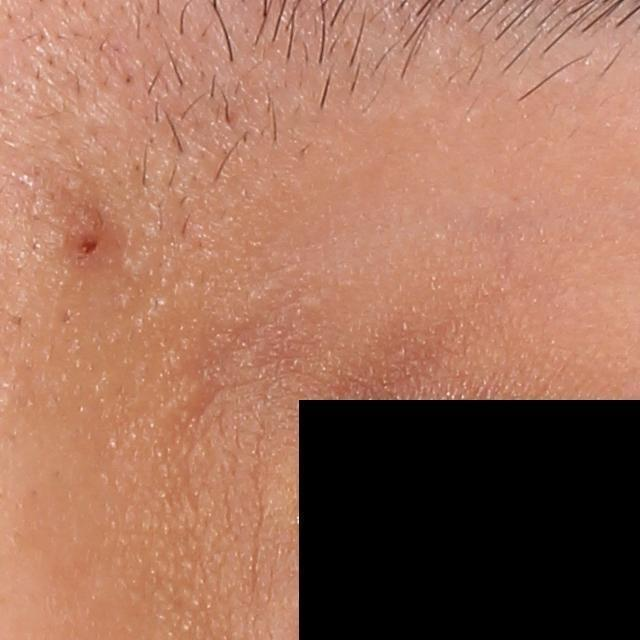papule: (64, 213, 119, 264)
